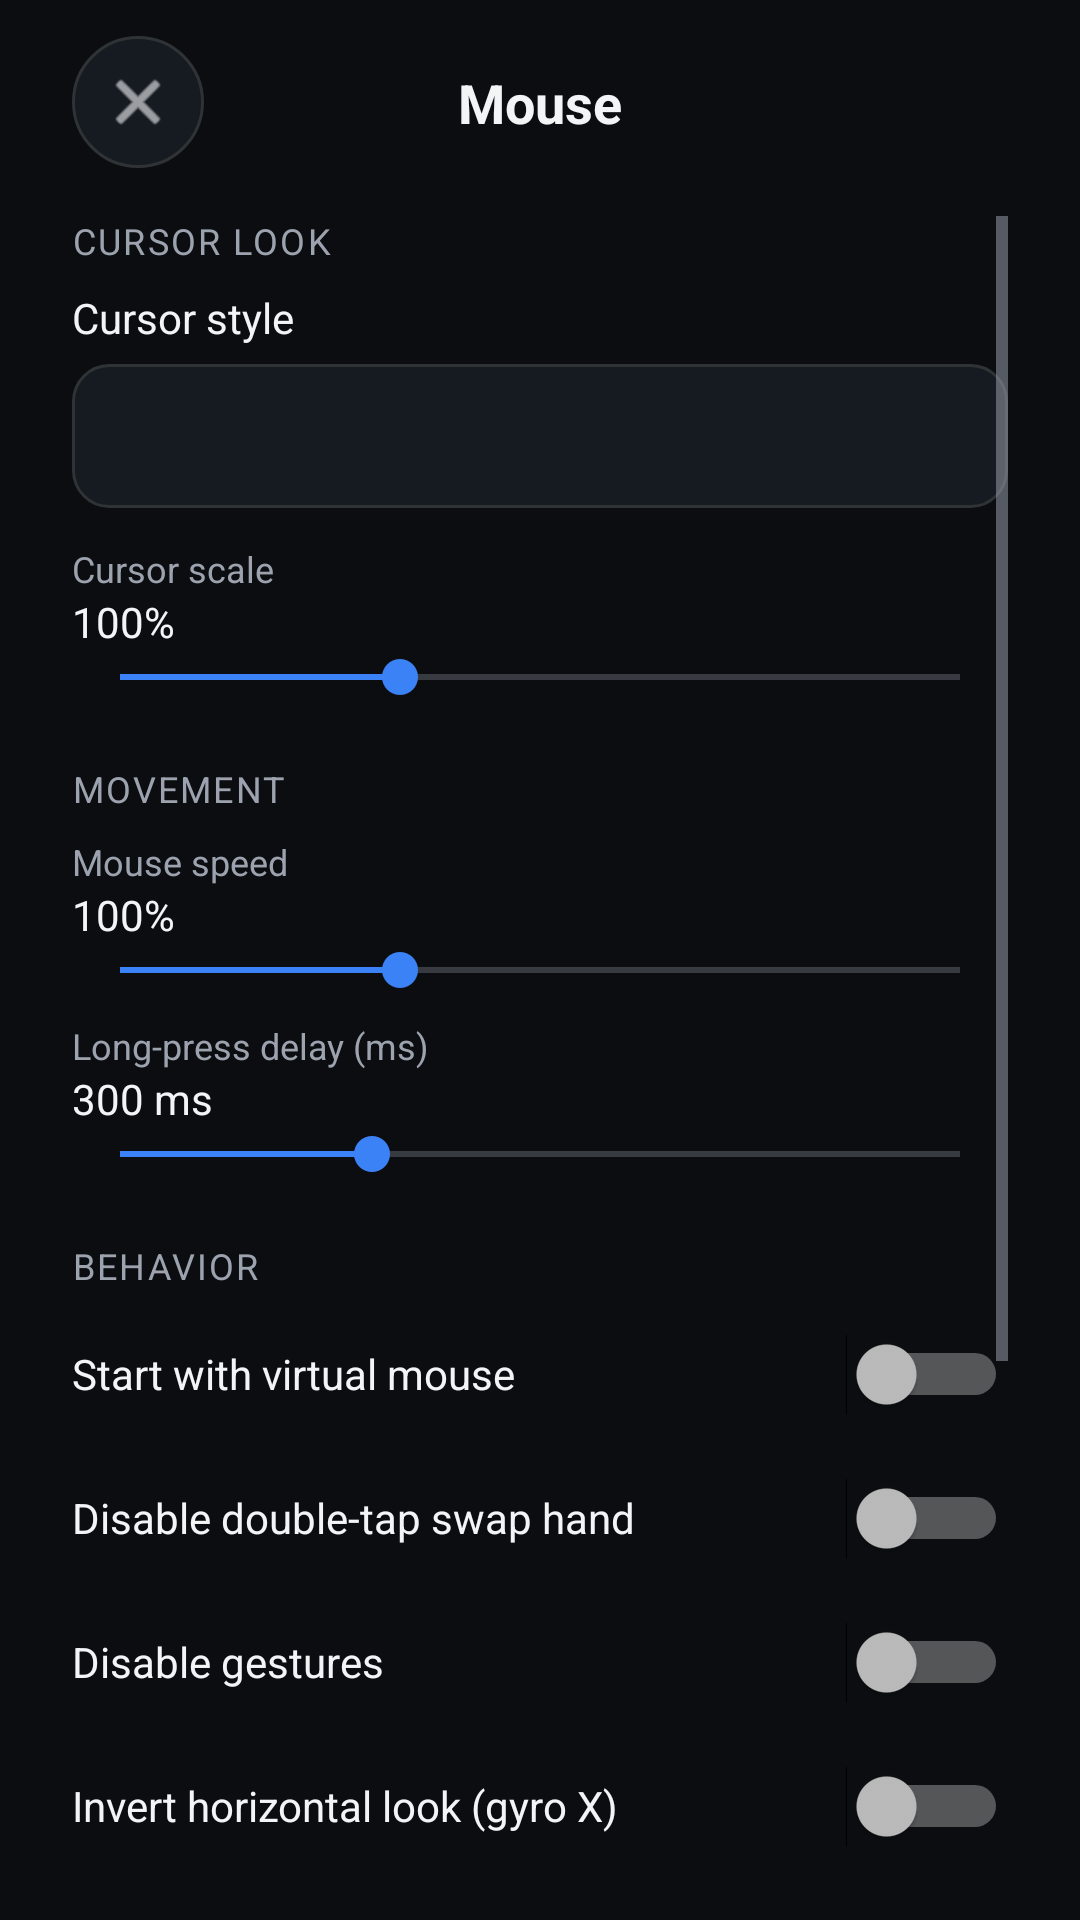

Icon click points for this 1080x1920 phone screenshot, format [x,y]:
close clear cancel: [138,102]
